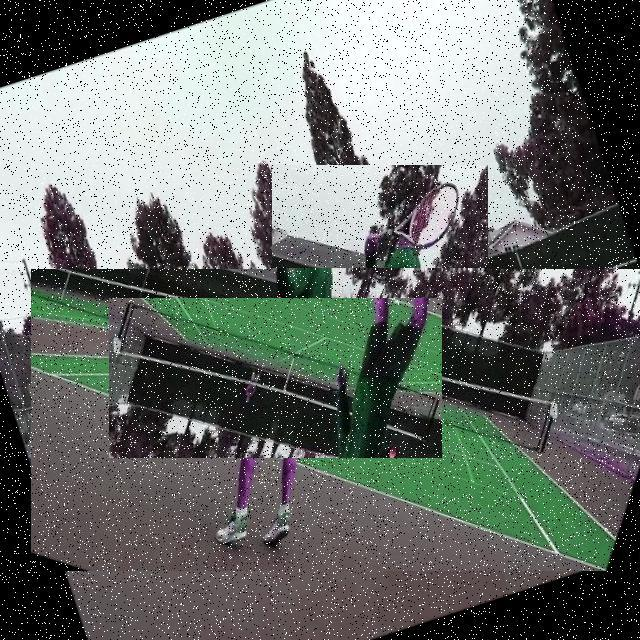court: (31, 269, 640, 571)
net: (109, 298, 442, 458)
player: (272, 166, 488, 564)
